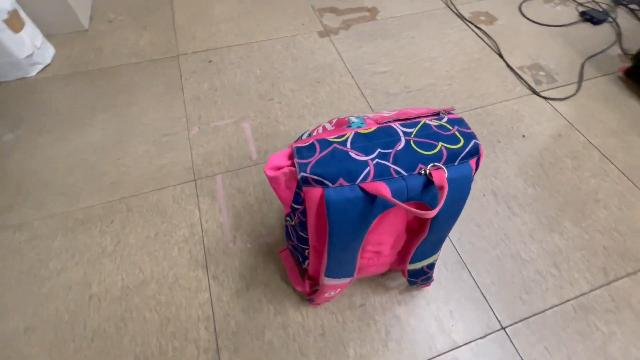Backpack: (252, 101, 488, 314)
